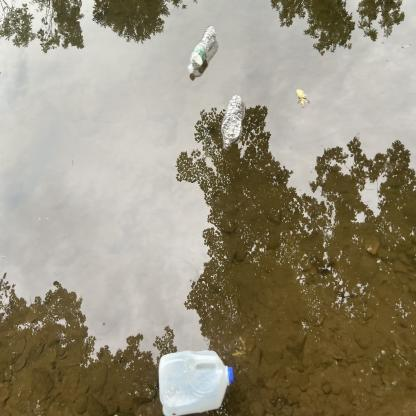trash: (151, 344, 239, 416), (184, 22, 223, 78), (214, 93, 249, 152)
